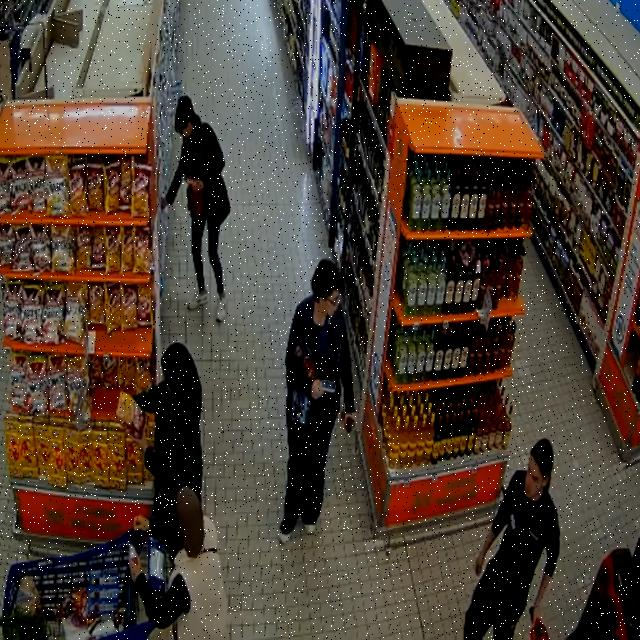article: (114, 393, 147, 439), (294, 346, 323, 379), (160, 187, 170, 217), (345, 417, 356, 433), (184, 176, 194, 185)
bags: (291, 389, 310, 427), (187, 187, 204, 217)
hands: (129, 555, 143, 582), (130, 435, 148, 454), (134, 515, 149, 532), (311, 380, 324, 399), (476, 552, 485, 576), (190, 179, 204, 193), (531, 604, 541, 623), (345, 413, 357, 425), (161, 196, 168, 209)
person: (279, 260, 354, 543), (464, 440, 559, 639), (163, 96, 230, 321), (130, 488, 227, 639), (135, 343, 202, 558)
